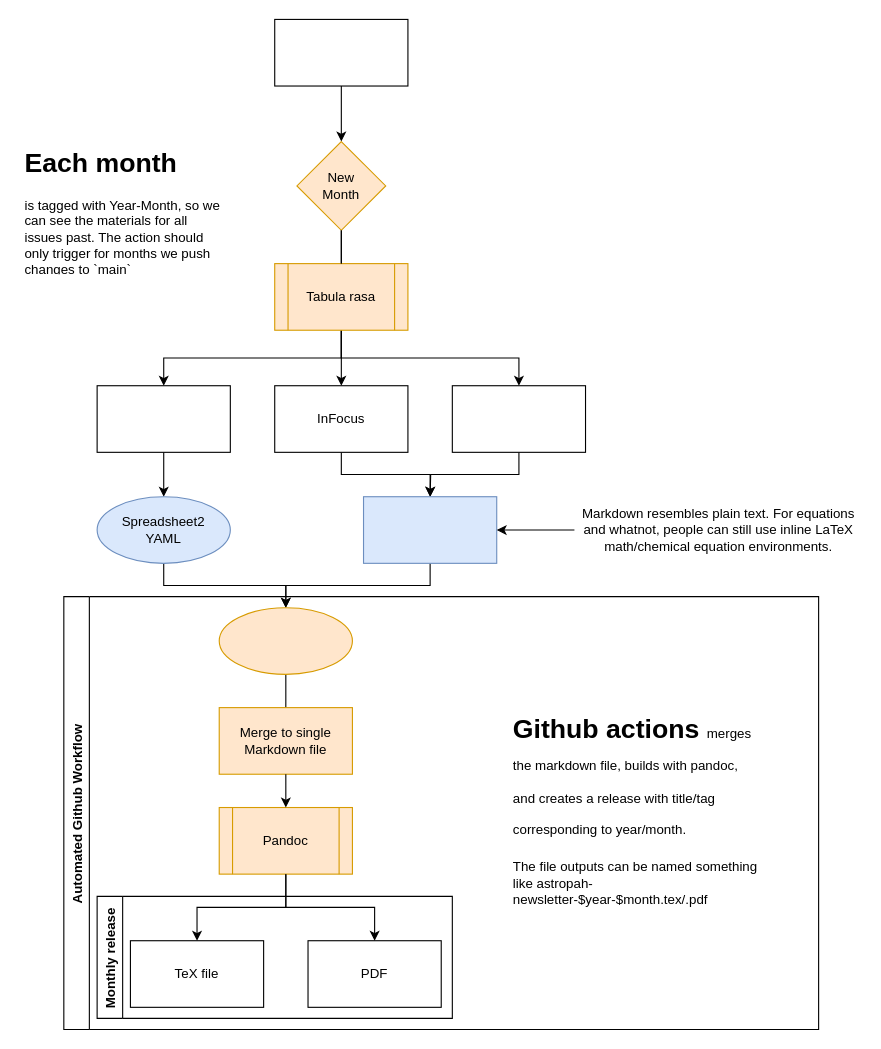
Some shapes in this 881 by 1049 pixel diagram are drawn without their labels. The box of each missing label's shape, as (x1, y1, x2, y2) in pixels:
Abstracts: (96, 385, 230, 452)
build_issue.py: (218, 607, 352, 674)
Editorial: (451, 385, 586, 452)
main branch: (274, 18, 408, 86)
Write in Markdown with LaTeX: (362, 496, 497, 563)
